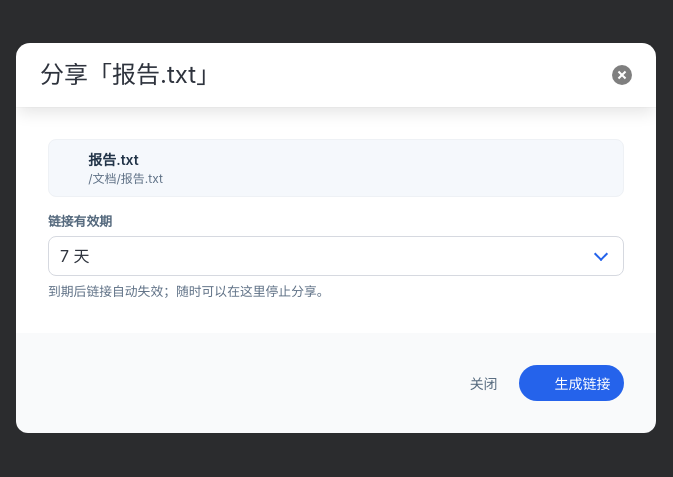
Test: ShareDialog.vue › creates a link and offers copy, open and stop
Click the button "生成链接": (572, 383) top-left (519, 365), bottom-right (624, 401)
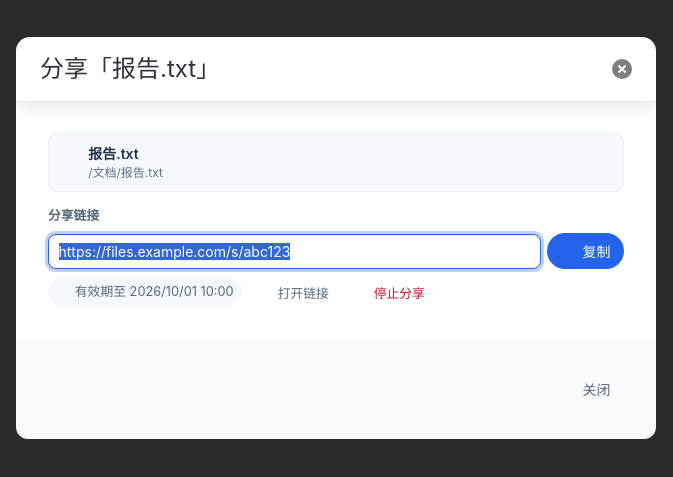
Expected: the button "停止分享" is shown, top-left (343, 277), bottom-right (434, 307)
Expected: the text "有效期至 2026/10/01 10:00" is shown, top-left (75, 282), bottom-right (234, 302)
Expected: the button "打开链接" is shown, top-left (247, 277), bottom-right (338, 307)
Click the button "复制": (586, 251) top-left (547, 233), bottom-right (624, 269)
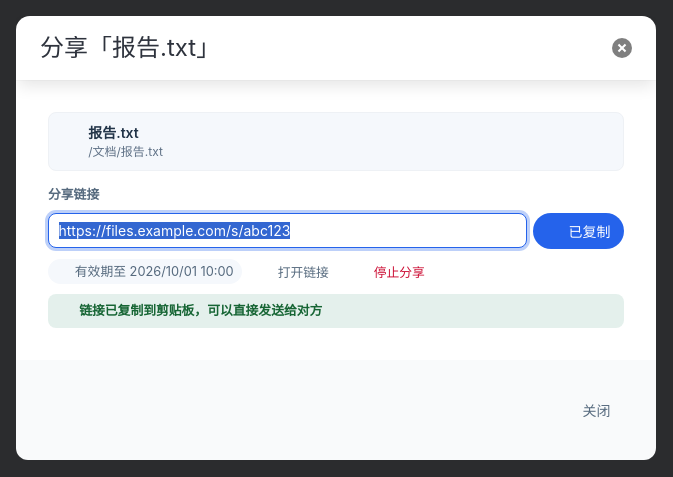
Expected: the text "链接已复制到剪贴板，可以直接发送给对方" is shown, top-left (79, 301), bottom-right (322, 320)
